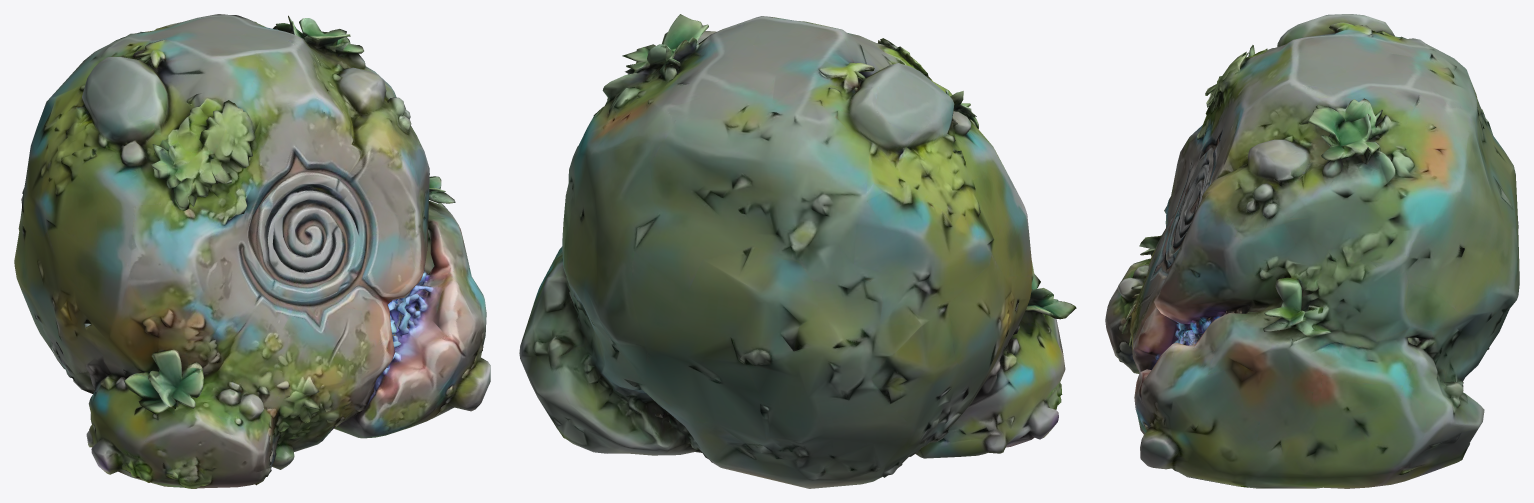
The model's file is rock.glb.
The picture shows the model from 3 angles, left to right: view 1: azimuth 30°, elevation 25°; view 2: azimuth 150°, elevation 25°; view 3: azimuth 270°, elevation 25°; orthographic projection. The views are drawn at different scales.
Size of the model in its own units: 2 by 1.81 by 1.89.
Materials: 1 (1 with a texture image).
